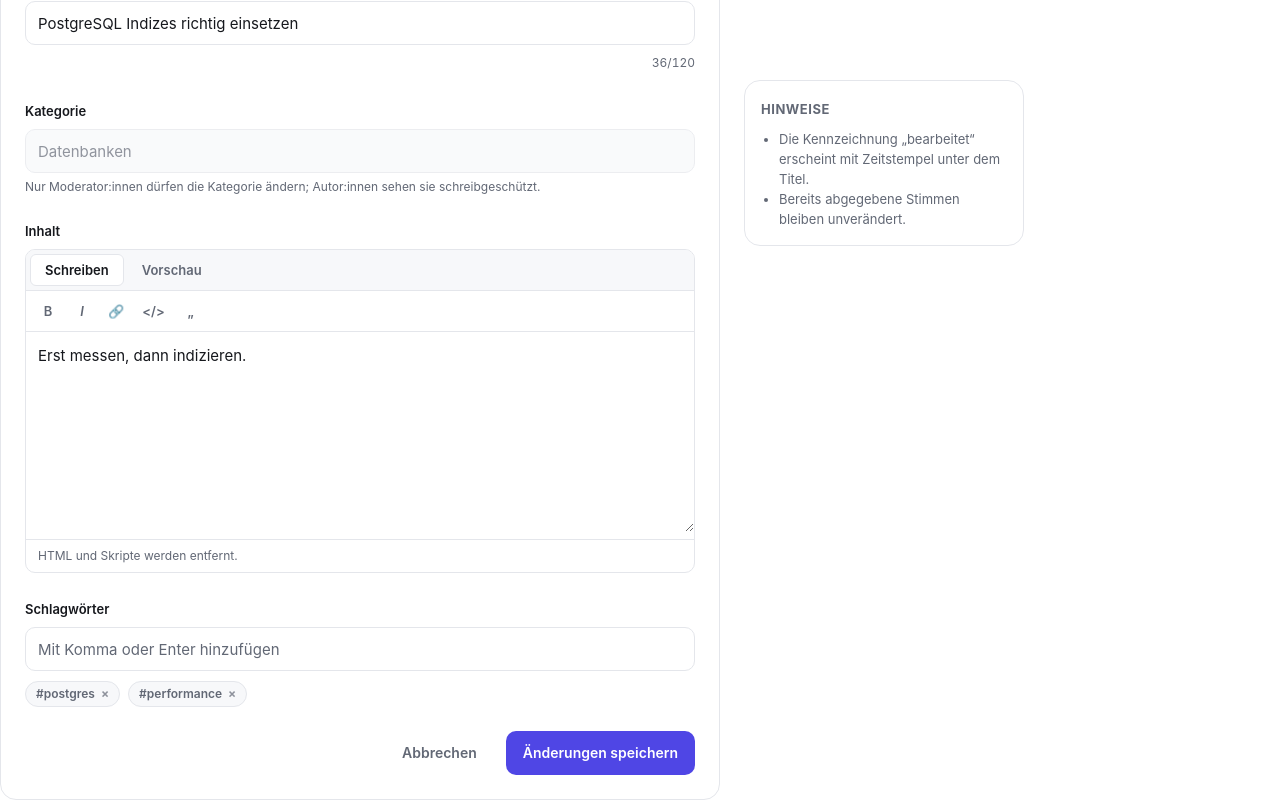
it: edit-thread screen › shows a readable message when the server rejects the save
(page scrolled)
Expected: the field labelled "Titel" is shown, [25,1,695,45]
Click the button "Änderungen speichern" at (600, 753), box [506,731,695,775]
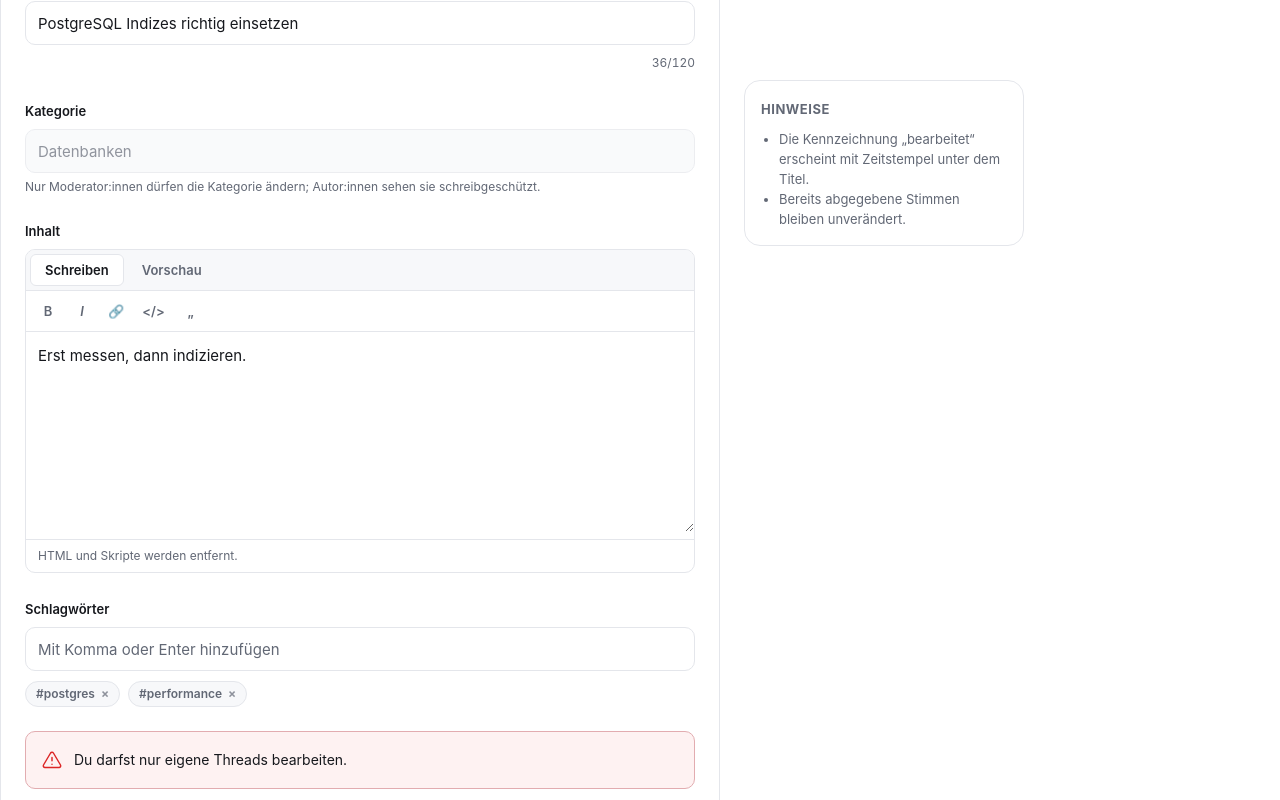
Result: the text "Du darfst nur eigene Threads bearbeiten." is shown at [74,751,347,768]
